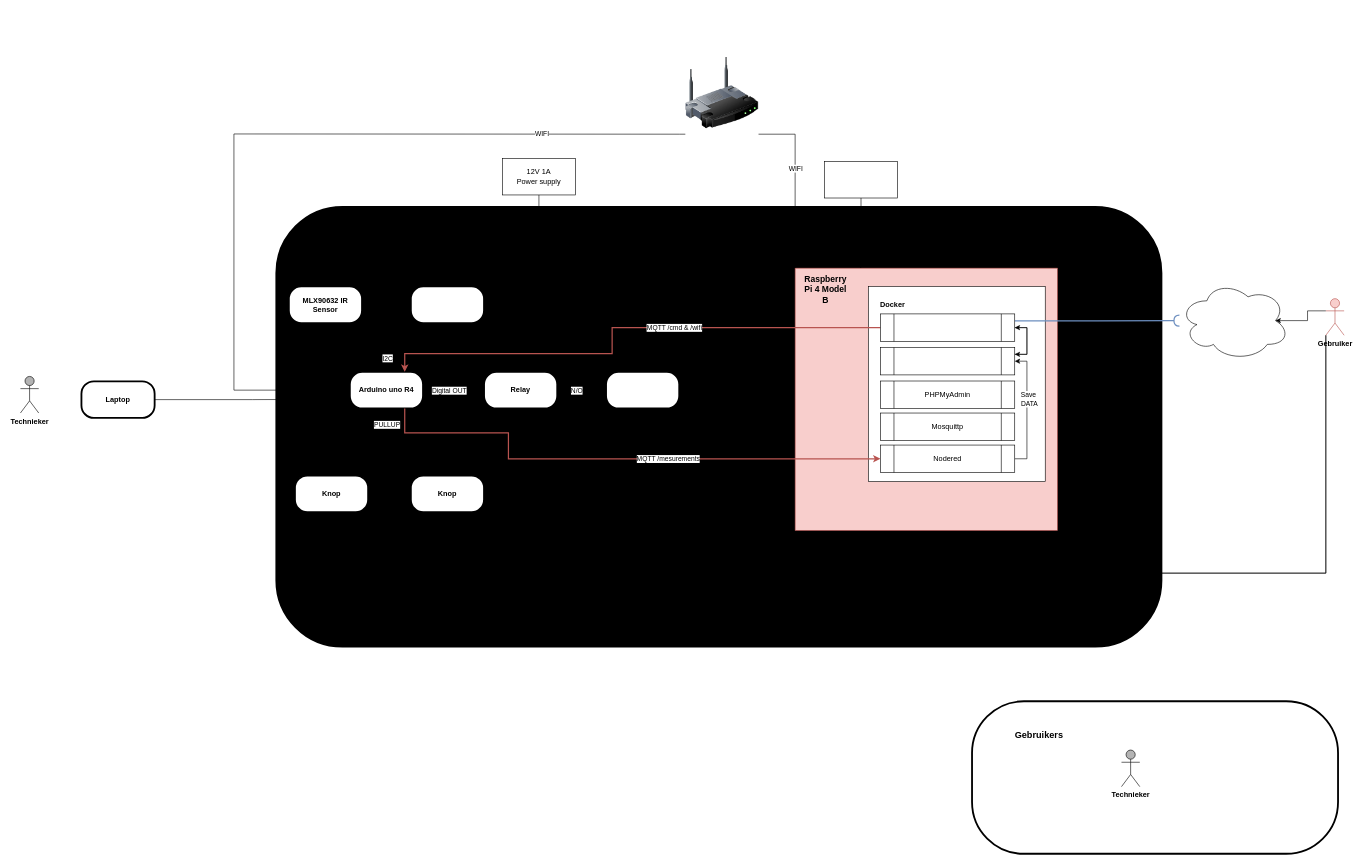
The diagram is 1363 pixels wide and 865 high, and some of its shapes have lost their labels. The shapes that lost their labels are listed below. From the top down, each one's centre as x and y in pixels, then its label:
(x=861, y=179): RPI Power supply
(x=447, y=304): ST7789 Display
(x=1234, y=320): Website
(x=947, y=327): Flask app
(x=947, y=361): MariaDB
(x=642, y=390): Heating Pad
